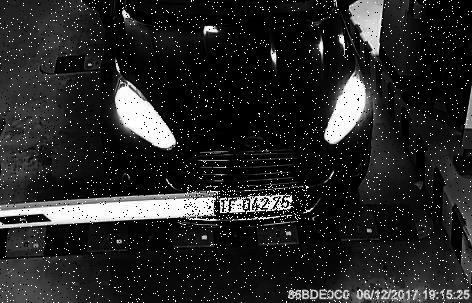License-plate: (186, 186, 311, 221)
